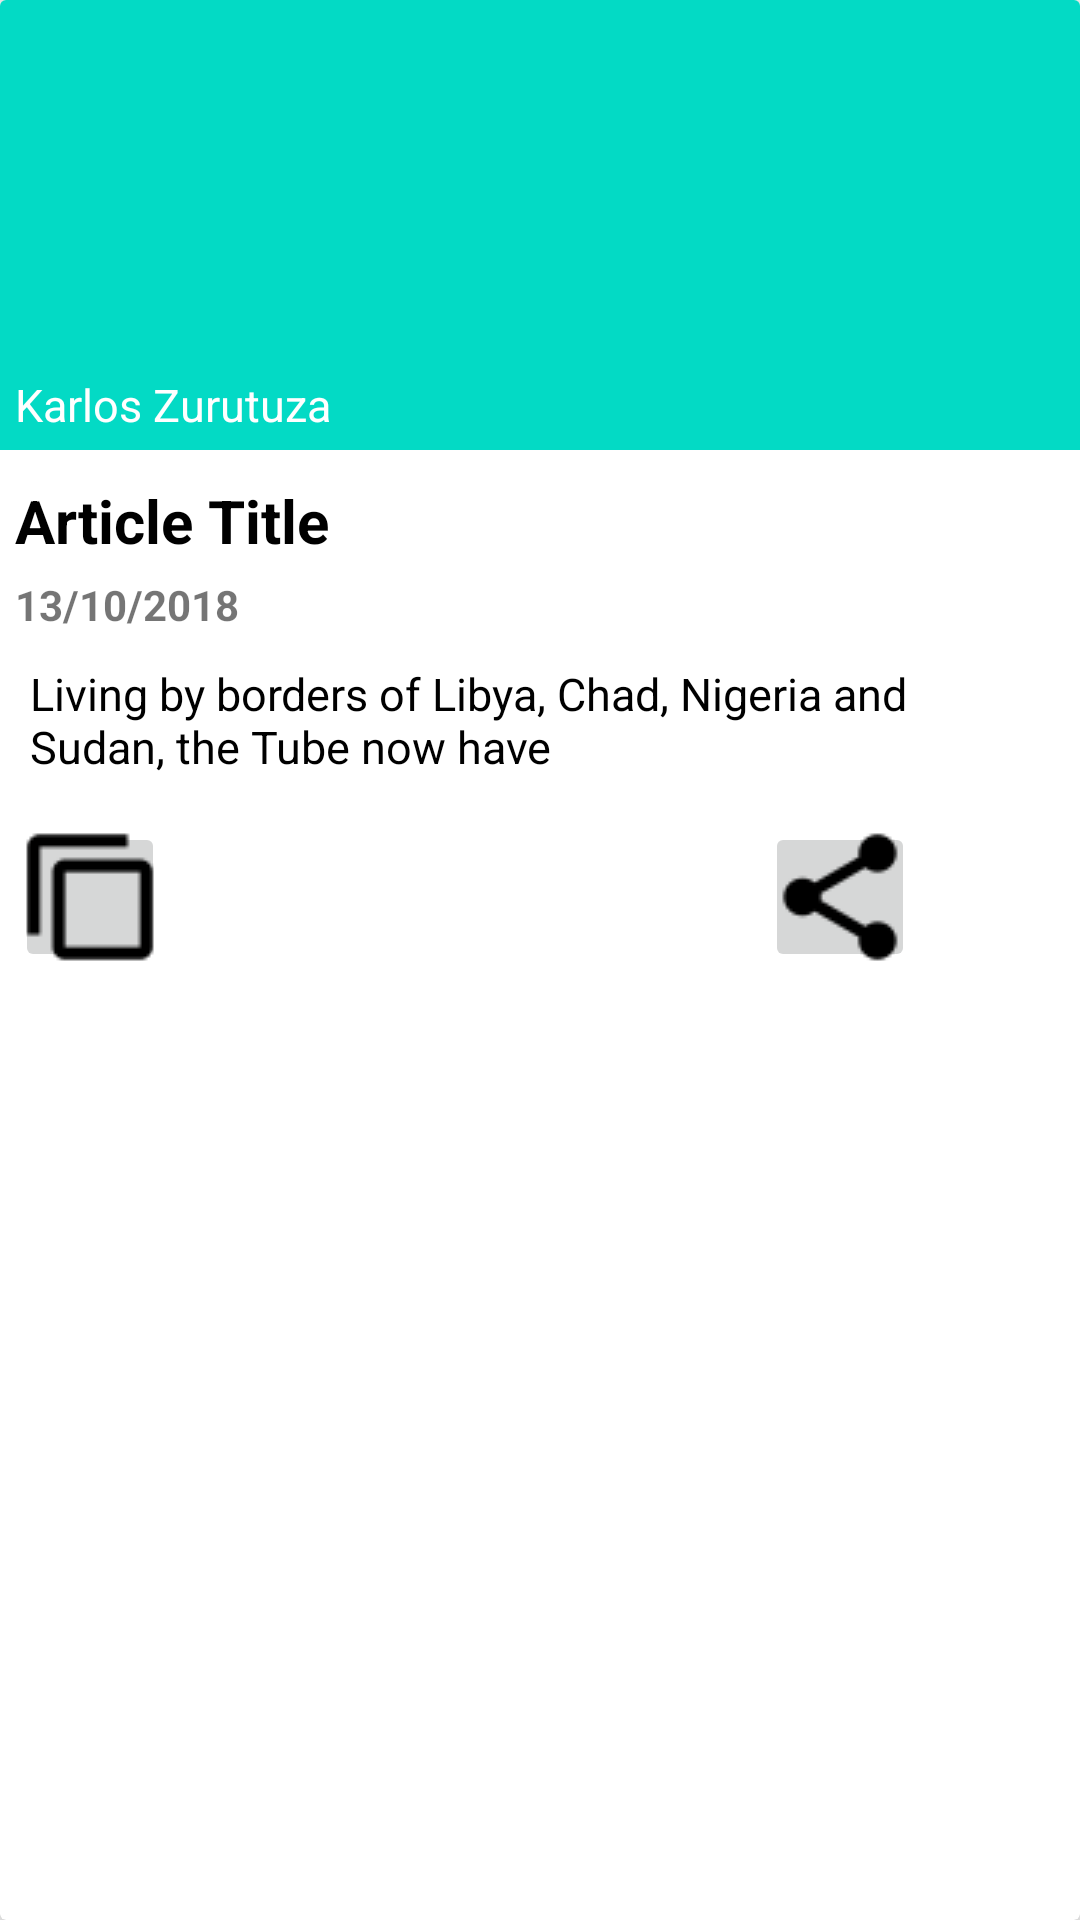

Where icons sit on this 1080px×1920px app screen, as box(x1, y1, x2, y2):
share: box(777, 833, 903, 961)
